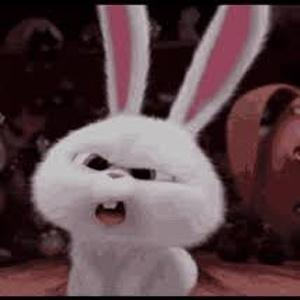rabbit: (33, 6, 273, 296)
